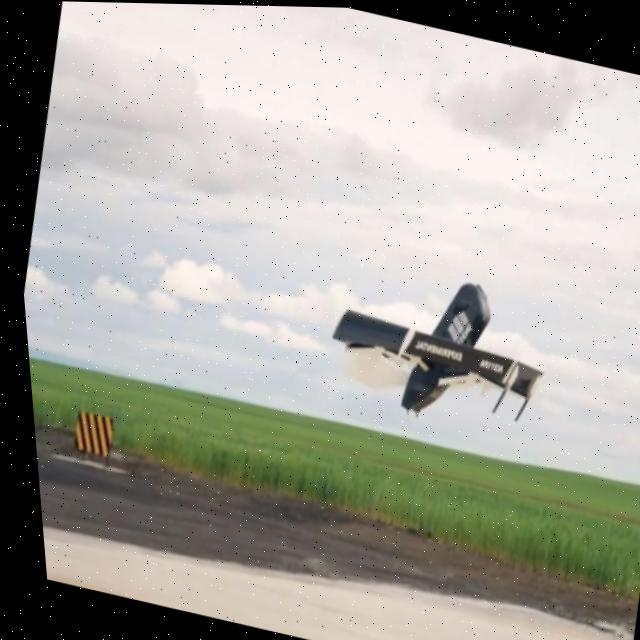drones: (273, 223, 593, 498)
